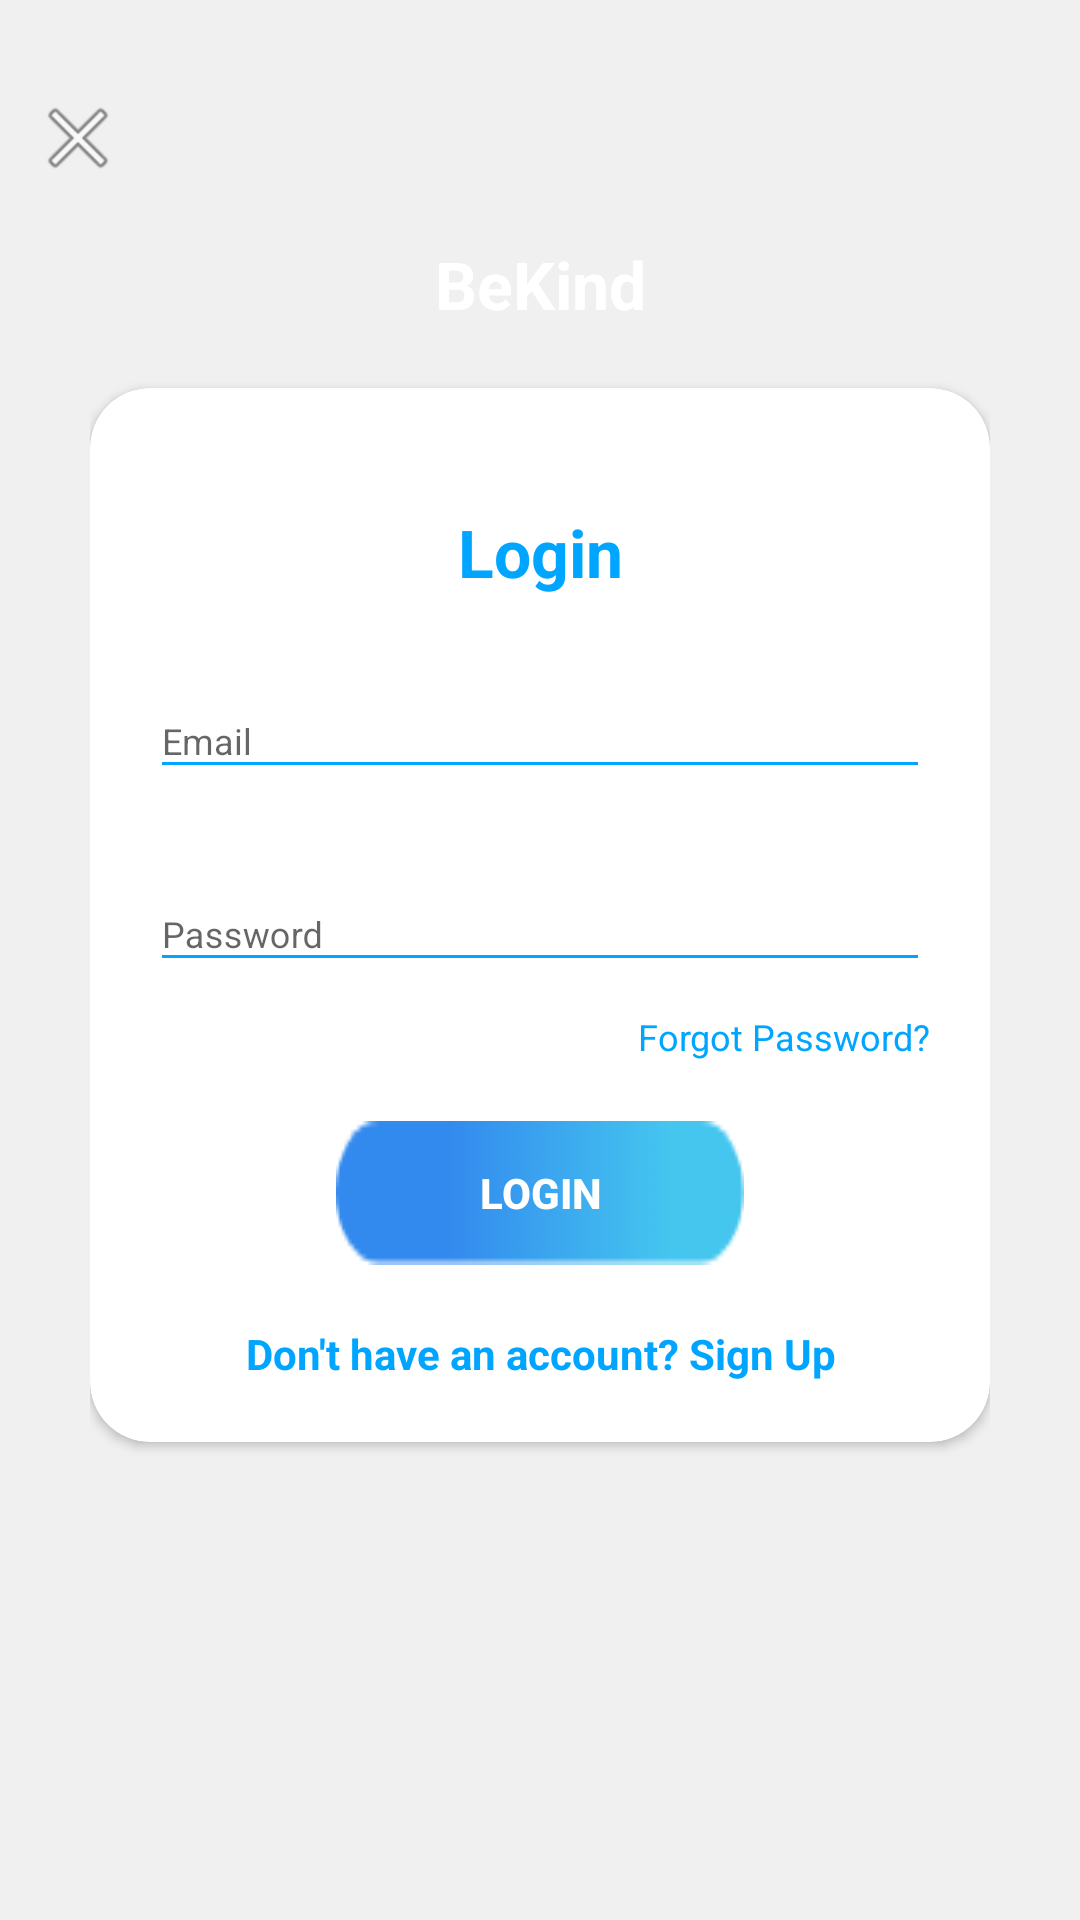

Icons on this 1080×1920 Android screen, each with the point to tap as [x,y]:
close clear cancel: [78,138]
